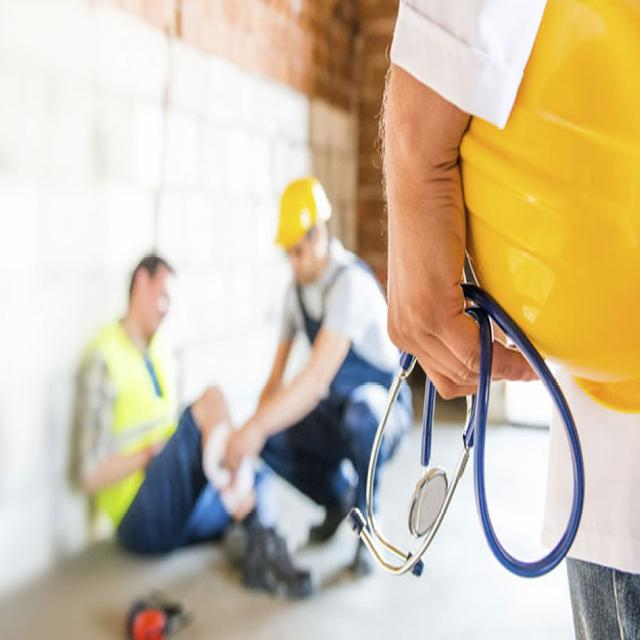Reflective-Jacket: (76, 318, 186, 522)
Safety-Helmet: (271, 170, 333, 253), (122, 229, 181, 285)
